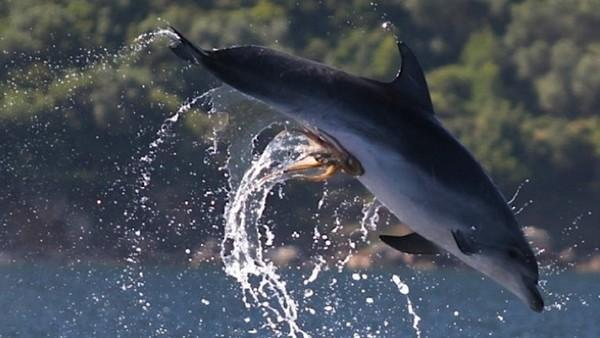fish: (159, 24, 547, 312)
